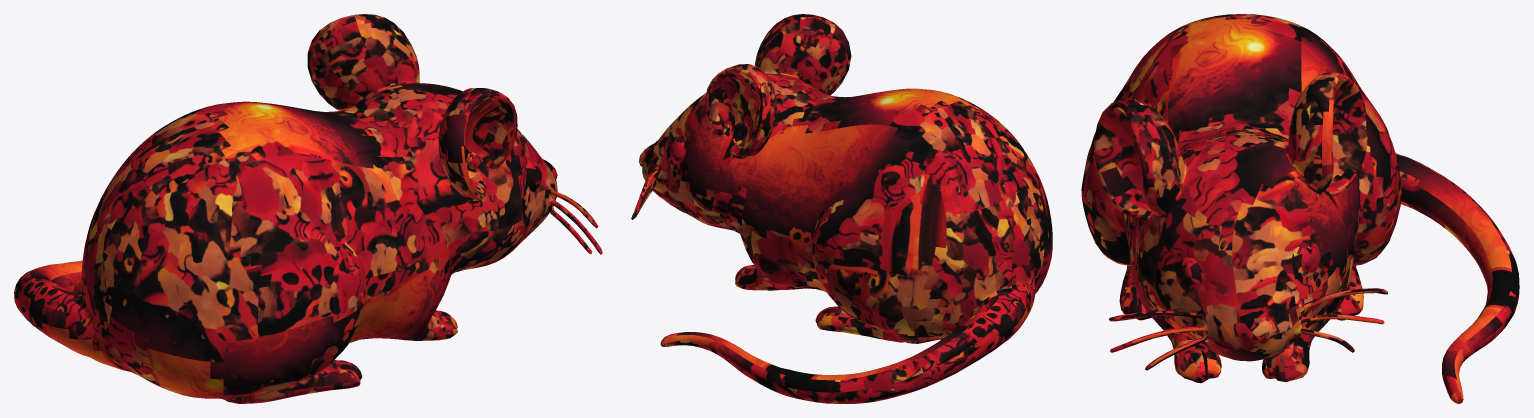
File: rato.fbx
3 renders of one model, left to right at view 1: azimuth 30°, elevation 25°; view 2: azimuth 150°, elevation 25°; view 3: azimuth 270°, elevation 25°, orthographic. The views are drawn at different scales.
Parts seen in each view (by area): view 1: tripo_node_936e7eea; view 2: tripo_node_936e7eea; view 3: tripo_node_936e7eea.
Boxes of the visible parts, box(x1,y1,x2,y2) form: tripo_node_936e7eea: box(14, 14, 602, 403); tripo_node_936e7eea: box(631, 14, 1052, 403); tripo_node_936e7eea: box(1081, 14, 1519, 403).
Size of the model in its own units: 53.24 by 31.45 by 40.56.
